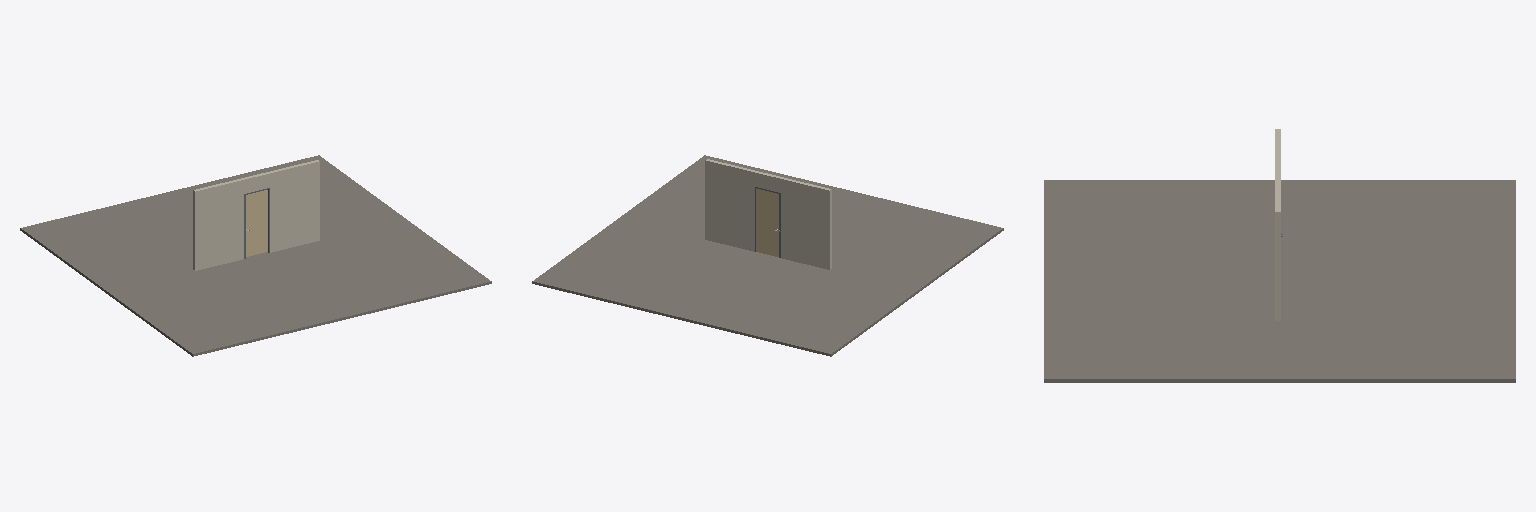
robot.urdf — db0269_swing_single_minimal:
<?xml version="1.0" ?>
<robot xmlns:doorbench="https://github.com/adamraudonis/DoorBench/schema/urdf-ext" name="db0269_swing_single_minimal">
  <link name="world_env">
    <visual name="floor_vis">
      <origin xyz="0 0 -0.05" rpy="0 0 0"/>
      <geometry>
        <box size="12 12 0.1"/>
      </geometry>
      <material name="mat_floor"/>
    </visual>
    <collision name="floor_col">
      <origin xyz="0 0 -0.05" rpy="0 0 0"/>
      <geometry>
        <box size="12 12 0.1"/>
      </geometry>
    </collision>
    <visual name="wall_left_vis">
      <origin xyz="-1.52025 -0.0435 1.5255" rpy="0 0 0"/>
      <geometry>
        <box size="1.9595 0.145 3.051"/>
      </geometry>
      <material name="mat_wall"/>
    </visual>
    <collision name="wall_left_col">
      <origin xyz="-1.52025 -0.0435 1.5255" rpy="0 0 0"/>
      <geometry>
        <box size="1.9595 0.145 3.051"/>
      </geometry>
    </collision>
    <visual name="wall_right_vis">
      <origin xyz="1.50525 -0.0435 1.5255" rpy="0 0 0"/>
      <geometry>
        <box size="1.9895 0.145 3.051"/>
      </geometry>
      <material name="mat_wall"/>
    </visual>
    <collision name="wall_right_col">
      <origin xyz="1.50525 -0.0435 1.5255" rpy="0 0 0"/>
      <geometry>
        <box size="1.9895 0.145 3.051"/>
      </geometry>
    </collision>
    <visual name="wall_header_vis">
      <origin xyz="-0.015 -0.0435 2.791" rpy="0 0 0"/>
      <geometry>
        <box size="1.051 0.145 0.52"/>
      </geometry>
      <material name="mat_wall"/>
    </visual>
    <collision name="wall_header_col">
      <origin xyz="-0.015 -0.0435 2.791" rpy="0 0 0"/>
      <geometry>
        <box size="1.051 0.145 0.52"/>
      </geometry>
    </collision>
    <visual name="jamb_hinge_vis">
      <origin xyz="0.4855 -0.0435 1.2255" rpy="0 0 0"/>
      <geometry>
        <box size="0.05 0.145 2.451"/>
      </geometry>
      <material name="mat_frame"/>
    </visual>
    <collision name="jamb_hinge_col">
      <origin xyz="0.4855 -0.0435 1.2255" rpy="0 0 0"/>
      <geometry>
        <box size="0.05 0.145 2.451"/>
      </geometry>
    </collision>
    <visual name="strike_1040_wall_n_vis">
      <origin xyz="-0.5005 -0.06275 1.04" rpy="0 0 0"/>
      <geometry>
        <box size="0.08 0.1065 0.036"/>
      </geometry>
      <material name="mat_frame"/>
    </visual>
    <collision name="strike_1040_wall_n_col">
      <origin xyz="-0.5005 -0.06275 1.04" rpy="0 0 0"/>
      <geometry>
        <box size="0.08 0.1065 0.036"/>
      </geometry>
    </collision>
    <visual name="strike_1040_wall_p_vis">
      <origin xyz="-0.5005 0.0175 1.04" rpy="0 0 0"/>
      <geometry>
        <box size="0.08 0.016 0.036"/>
      </geometry>
      <material name="mat_frame"/>
    </visual>
    <collision name="strike_1040_wall_p_col">
      <origin xyz="-0.5005 0.0175 1.04" rpy="0 0 0"/>
      <geometry>
        <box size="0.08 0.016 0.036"/>
      </geometry>
    </collision>
    <visual name="strike_1040_ramp_vis">
      <origin xyz="-0.503782 0.018312 1.04" rpy="0 0 0.588003"/>
      <geometry>
        <box size="0.08 0.036056 0.036"/>
      </geometry>
      <material name="mat_frame"/>
    </visual>
    <collision name="strike_1040_ramp_col">
      <origin xyz="-0.503782 0.018312 1.04" rpy="0 0 0.588003"/>
      <geometry>
        <box size="0.08 0.036056 0.036"/>
      </geometry>
    </collision>
    <visual name="strike_1040_back_vis">
      <origin xyz="-0.512 0 1.04" rpy="0 0 0"/>
      <geometry>
        <box size="0.057 0.019 0.036"/>
      </geometry>
      <material name="mat_frame"/>
    </visual>
    <collision name="strike_1040_back_col">
      <origin xyz="-0.512 0 1.04" rpy="0 0 0"/>
      <geometry>
        <box size="0.057 0.019 0.036"/>
      </geometry>
    </collision>
    <visual name="jamb_strike_0_vis">
      <origin xyz="-0.5005 -0.0435 0.511" rpy="0 0 0"/>
      <geometry>
        <box size="0.08 0.145 1.022"/>
      </geometry>
      <material name="mat_frame"/>
    </visual>
    <collision name="jamb_strike_0_col">
      <origin xyz="-0.5005 -0.0435 0.511" rpy="0 0 0"/>
      <geometry>
        <box size="0.08 0.145 1.022"/>
      </geometry>
    </collision>
    <visual name="jamb_strike_1_vis">
      <origin xyz="-0.5005 -0.0435 1.7545" rpy="0 0 0"/>
      <geometry>
        <box size="0.08 0.145 1.393"/>
      </geometry>
      <material name="mat_frame"/>
    </visual>
    <collision name="jamb_strike_1_col">
      <origin xyz="-0.5005 -0.0435 1.7545" rpy="0 0 0"/>
      <geometry>
        <box size="0.08 0.145 1.393"/>
      </geometry>
    </collision>
    <visual name="jamb_head_vis">
      <origin xyz="-0.015 -0.0435 2.476" rpy="0 0 0"/>
      <geometry>
        <box size="1.051 0.145 0.05"/>
      </geometry>
      <material name="mat_frame"/>
    </visual>
    <collision name="jamb_head_col">
      <origin xyz="-0.015 -0.0435 2.476" rpy="0 0 0"/>
      <geometry>
        <box size="1.051 0.145 0.05"/>
      </geometry>
    </collision>
    <visual name="head_stud_vis">
      <origin xyz="-0.015 -0.0435 2.516" rpy="0 0 0"/>
      <geometry>
        <box size="1.051 0.145 0.03"/>
      </geometry>
      <material name="mat_wall"/>
    </visual>
    <collision name="head_stud_col">
      <origin xyz="-0.015 -0.0435 2.516" rpy="0 0 0"/>
      <geometry>
        <box size="1.051 0.145 0.03"/>
      </geometry>
    </collision>
    <visual name="stop_hinge_vis">
      <origin xyz="0.455 -0.0385 1.2255" rpy="0 0 0"/>
      <geometry>
        <box size="0.011 0.032 2.451"/>
      </geometry>
      <material name="mat_frame"/>
    </visual>
    <collision name="stop_hinge_col">
      <origin xyz="0.455 -0.0385 1.2255" rpy="0 0 0"/>
      <geometry>
        <box size="0.011 0.032 2.451"/>
      </geometry>
    </collision>
    <visual name="stop_strike_vis">
      <origin xyz="-0.455 -0.0385 1.2255" rpy="0 0 0"/>
      <geometry>
        <box size="0.011 0.032 2.451"/>
      </geometry>
      <material name="mat_frame"/>
    </visual>
    <collision name="stop_strike_col">
      <origin xyz="-0.455 -0.0385 1.2255" rpy="0 0 0"/>
      <geometry>
        <box size="0.011 0.032 2.451"/>
      </geometry>
    </collision>
    <visual name="stop_head_vis">
      <origin xyz="0 -0.0385 2.4455" rpy="0 0 0"/>
      <geometry>
        <box size="0.921 0.032 0.011"/>
      </geometry>
      <material name="mat_frame"/>
    </visual>
    <collision name="stop_head_col">
      <origin xyz="0 -0.0385 2.4455" rpy="0 0 0"/>
      <geometry>
        <box size="0.921 0.032 0.011"/>
      </geometry>
    </collision>
  </link>
  <link name="leaf">
    <inertial>
      <origin xyz="-0.457 -0.029 1.228" rpy="0 0 0"/>
      <mass value="61.214218"/>
      <inertia ixx="30.330522725" ixy="0" ixz="0" iyy="34.582156232" iyz="0" izz="4.271385294"/>
    </inertial>
    <visual name="leaf_slab_vis">
      <origin xyz="-0.457 -0.029 1.228" rpy="0 0 0"/>
      <geometry>
        <box size="0.914 0.044 2.438"/>
      </geometry>
      <material name="mat_leaf"/>
    </visual>
    <collision name="leaf_slab_col">
      <origin xyz="-0.457 -0.029 1.228" rpy="0 0 0"/>
      <geometry>
        <box size="0.914 0.044 2.438"/>
      </geometry>
    </collision>
  </link>
  <link name="leaf_handle">
    <inertial>
      <origin xyz="0.03705 0 0" rpy="0 0 0"/>
      <mass value="0.984967"/>
      <inertia ixx="0.00380889" ixy="0" ixz="0" iyy="0.002278035" iyz="0" izz="0.005520856"/>
    </inertial>
    <visual name="leaf_handle_lever_n_vis">
      <origin xyz="0 -0.022 0" rpy="-1.570796 0 3.141593"/>
      <geometry>
        <mesh filename="../../hardware/lever_6268dcb28c.obj"/>
      </geometry>
      <material name="mat_op_stainless"/>
    </visual>
    <collision name="leaf_handle_lever_col_n_col">
      <origin xyz="0.06 -0.077 0" rpy="0 1.570796 0"/>
      <geometry>
        <cylinder radius="0.0095" length="0.101"/>
      </geometry>
    </collision>
    <collision name="leaf_handle_hub_col_n_col">
      <origin xyz="0 -0.052 0" rpy="-1.570796 0 0"/>
      <geometry>
        <cylinder radius="0.012" length="0.044"/>
      </geometry>
    </collision>
    <visual name="leaf_handle_lever_p_vis">
      <origin xyz="0 0.022 0" rpy="1.570796 0 3.141593"/>
      <geometry>
        <mesh filename="../../hardware/lever_6268dcb28c.obj"/>
      </geometry>
      <material name="mat_op_stainless"/>
    </visual>
    <collision name="leaf_handle_lever_col_p_col">
      <origin xyz="0.06 0.077 0" rpy="0 1.570796 0"/>
      <geometry>
        <cylinder radius="0.0095" length="0.101"/>
      </geometry>
    </collision>
    <collision name="leaf_handle_hub_col_p_col">
      <origin xyz="0 0.052 0" rpy="-1.570796 0 0"/>
      <geometry>
        <cylinder radius="0.012" length="0.044"/>
      </geometry>
    </collision>
  </link>
  <link name="leaf_latch_bolt">
    <inertial>
      <origin xyz="0.0055 0 0" rpy="0 0 0"/>
      <mass value="0.074627"/>
      <inertia ixx="0.000002271" ixy="0" ixz="0" iyy="0.000013255" iyz="0" izz="0.000013255"/>
    </inertial>
    <visual name="leaf_latch_bolt_capsule_vis">
      <origin xyz="0.0055 0 0" rpy="0 -1.570796 0"/>
      <geometry>
        <cylinder radius="0.008" length="0.033"/>
      </geometry>
      <material name="mat_bolt"/>
    </visual>
    <collision name="leaf_latch_bolt_capsule_col">
      <origin xyz="0.0055 0 0" rpy="0 -1.570796 0"/>
      <geometry>
        <cylinder radius="0.008" length="0.033"/>
      </geometry>
    </collision>
  </link>
  <joint name="leaf_hinge" type="revolute">
    <origin xyz="0.4575 0.029 0" rpy="0 0 0"/>
    <parent link="world_env"/>
    <child link="leaf"/>
    <axis xyz="0 0 -1"/>
    <limit lower="0" upper="1.570796" effort="2000" velocity="10"/>
    <dynamics damping="12.307281" friction="0.250336"/>
    <doorbench:spring stiffness="14.183889" springref="-2.144687" note="tau = -stiffness*(q - springref); not native URDF"/>
    <doorbench:closer damping_closing="90" damping_opening="12" backcheck_angle="1.22" backcheck_damping="60"/>
  </joint>
  <joint name="leaf_handle_hinge" type="revolute">
    <origin xyz="-0.844 -0.029 1.04" rpy="0 0 0"/>
    <parent link="leaf"/>
    <child link="leaf_handle"/>
    <axis xyz="0 1 0"/>
    <limit lower="0" upper="0.96" effort="2000" velocity="10"/>
    <dynamics damping="0.255791" friction="0.05"/>
    <doorbench:spring stiffness="1.2" springref="-0.583333" note="tau = -stiffness*(q - springref); not native URDF"/>
  </joint>
  <joint name="leaf_latch_bolt_slide" type="prismatic">
    <origin xyz="-0.914 -0.029 1.04" rpy="0 0 0"/>
    <parent link="leaf"/>
    <child link="leaf_latch_bolt"/>
    <axis xyz="1 0 0"/>
    <limit lower="0" upper="0.019" effort="5000" velocity="10"/>
    <dynamics damping="2" friction="0.3"/>
    <doorbench:spring stiffness="550" springref="-0.01" note="tau = -stiffness*(q - springref); not native URDF"/>
    <mimic joint="leaf_handle_hinge" multiplier="0.020879" offset="0"/>
    <doorbench:coupling one_sided="true" note="MJCF uses a one-sided tendon (bolt may retract further, e.g. riding over the strike lip); mimic is bilateral"/>
  </joint>
  <material name="mat_bolt">
    <color rgba="0.75 0.76 0.77 1"/>
  </material>
  <material name="mat_floor">
    <color rgba="0.55 0.53 0.5 1"/>
  </material>
  <material name="mat_frame">
    <color rgba="0.45 0.48 0.52 1"/>
  </material>
  <material name="mat_leaf">
    <color rgba="0.82 0.75 0.62 1"/>
  </material>
  <material name="mat_op_stainless">
    <color rgba="0.75 0.76 0.77 1"/>
  </material>
  <material name="mat_wall">
    <color rgba="0.78 0.76 0.7 1"/>
  </material>
</robot>

--- Facts derived from the render (not from the file) ---
3 views of the same robot in one strip: view 1: azimuth 30°, elevation 25°; view 2: azimuth 150°, elevation 25°; view 3: azimuth 270°, elevation 25° (orthographic).
Model db0269_swing_single_minimal with 4 links and 3 joints (2 revolute, 1 prismatic), rooted at world_env, posed all joints at 0.
Links seen in each view (by area): view 1: world_env, leaf; view 2: world_env, leaf; view 3: world_env.
Boxes of the visible links, x1,y1,x2,y2 form: world_env: (20,155,491,356); leaf: (246,190,267,256); world_env: (532,155,1003,356); leaf: (756,188,778,256); world_env: (1044,129,1515,382).
Bounding box of the posed robot: 12 × 12 × 3.15 m (x, y, z).
Meshes: 1 distinct files referenced, 2 mesh visuals loaded (1 OBJ).
